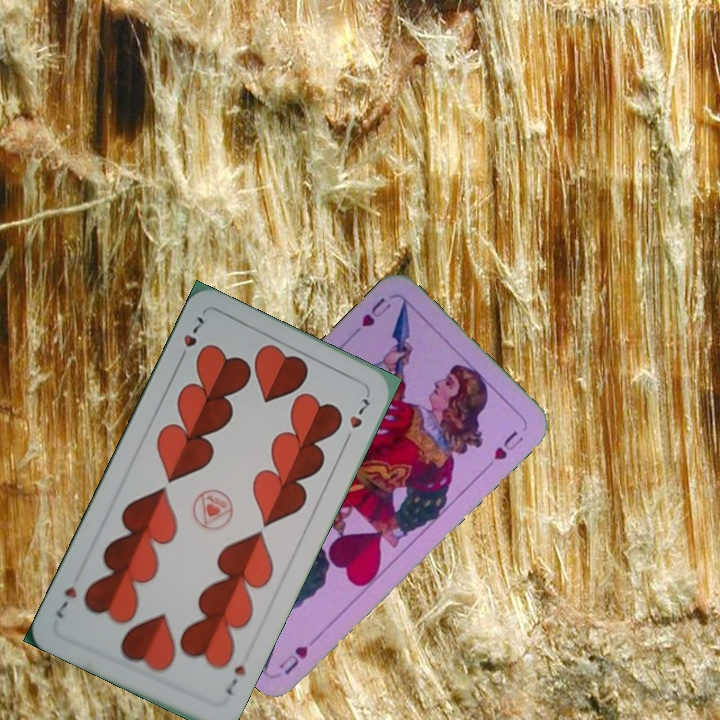H7: (174, 311, 207, 366), (221, 661, 249, 698)
HU: (275, 630, 323, 678), (357, 293, 394, 330)
